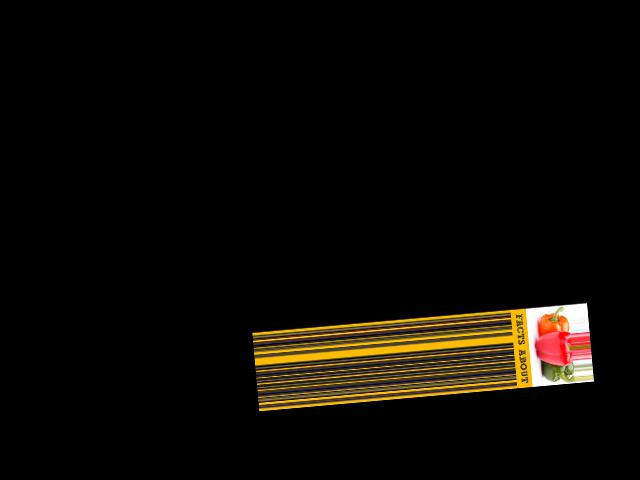bell_pepper: (536, 362, 574, 385)
